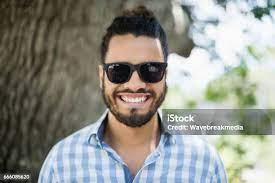sunglasses: (104, 58, 172, 86)
